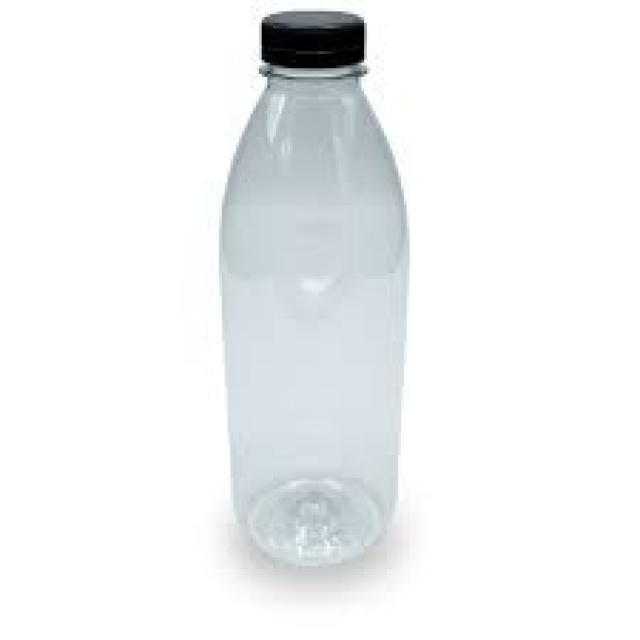Plastic: (214, 8, 400, 568)
